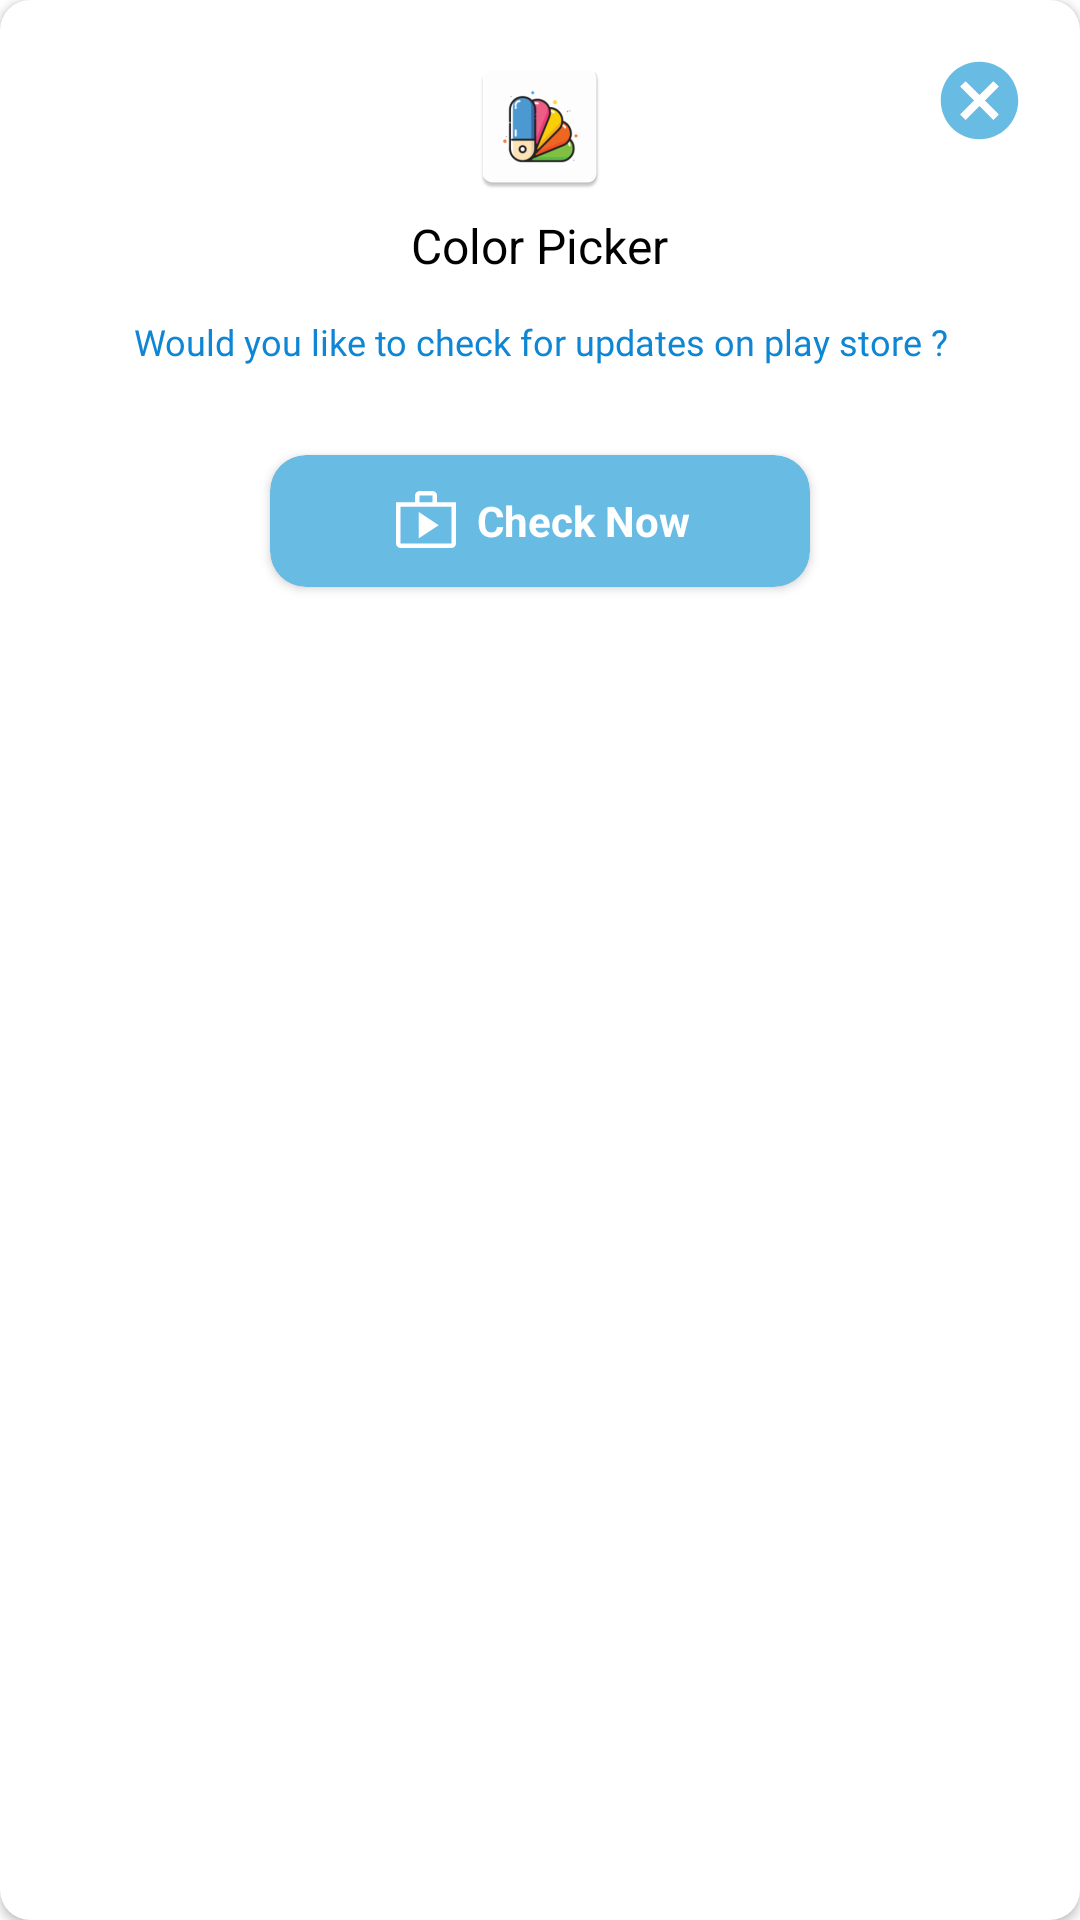

Icon click points for this 1080px x 1920px phone screenshot, format point (x, y):
cancel dialog: point (979, 100)
